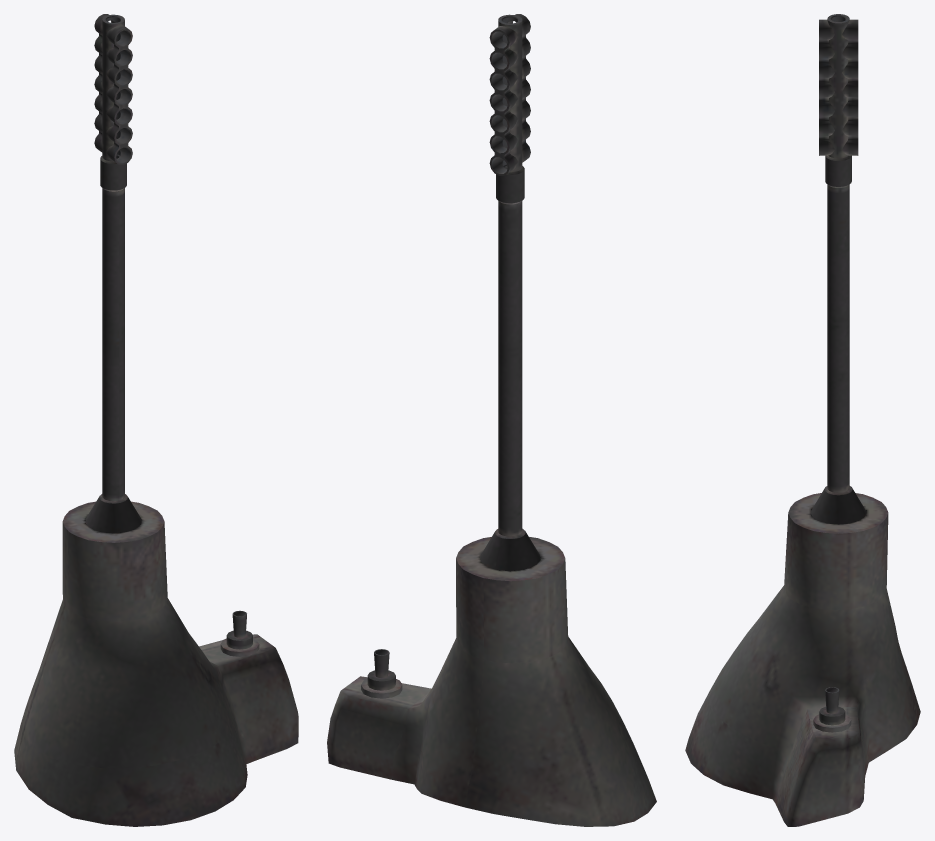
Rendered from Gun_08.glb.
The picture shows the model from 3 angles, left to right: view 1: azimuth 30°, elevation 25°; view 2: azimuth 150°, elevation 25°; view 3: azimuth 270°, elevation 25°; orthographic projection. The views are drawn at different scales.
Parts seen in each view (by area): view 1: set_0_group_0; view 2: set_0_group_0; view 3: set_0_group_0.
Boxes of the visible parts, x1,y1,x2,y2 form: set_0_group_0: [14, 14, 298, 826]; set_0_group_0: [327, 14, 656, 826]; set_0_group_0: [685, 14, 920, 826].
Bounding box in the file's own units: 0.6292 × 1.68 × 0.4893.
Materials: 1 (1 with a texture image).
